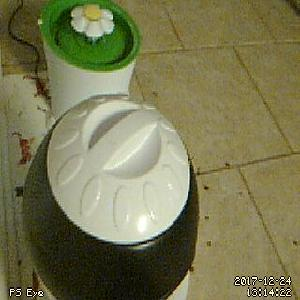fountain: (38, 1, 142, 73)
